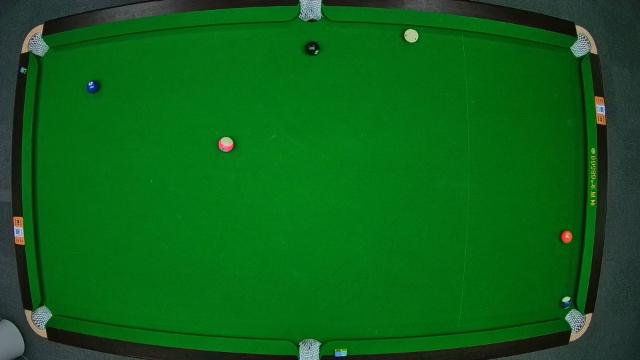bag1: (28, 35, 46, 57)
bag2: (300, 0, 322, 22)
bag3: (570, 34, 592, 56)
bag4: (32, 306, 49, 328)
bag5: (298, 340, 320, 360)
bag6: (566, 310, 586, 332)
ball0: (403, 28, 419, 44)
ball10: (560, 295, 574, 311)
ball12: (219, 136, 235, 154)
ball2: (86, 78, 102, 94)
ball5: (561, 229, 573, 244)
ball8: (304, 40, 320, 56)
